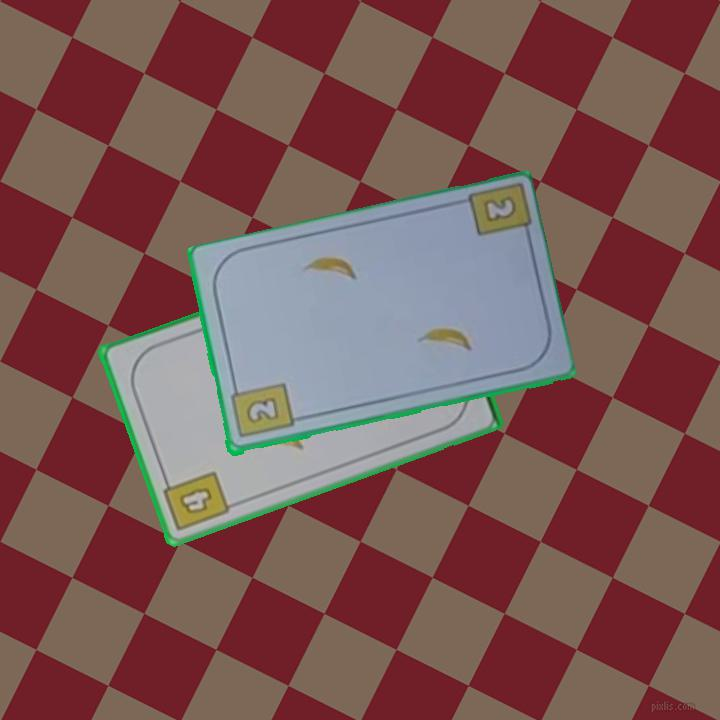2b: (226, 380, 296, 442), (483, 196, 516, 223)
4b: (159, 468, 233, 535)
